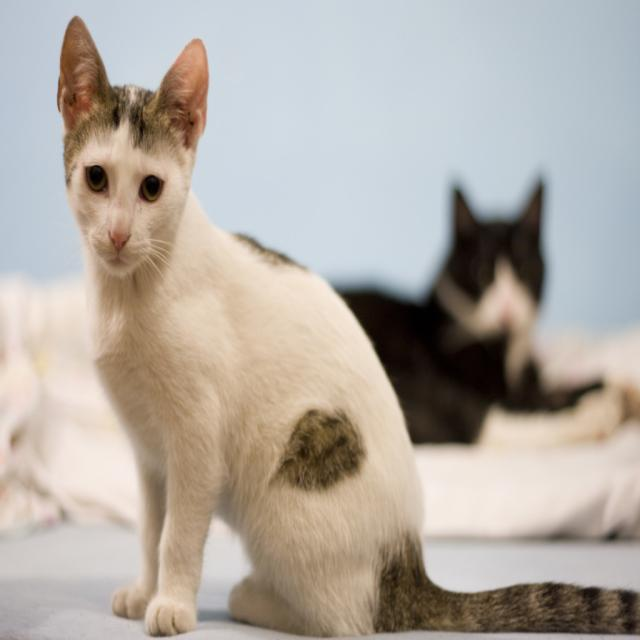Cat: (56, 14, 640, 636), (336, 177, 640, 450)
